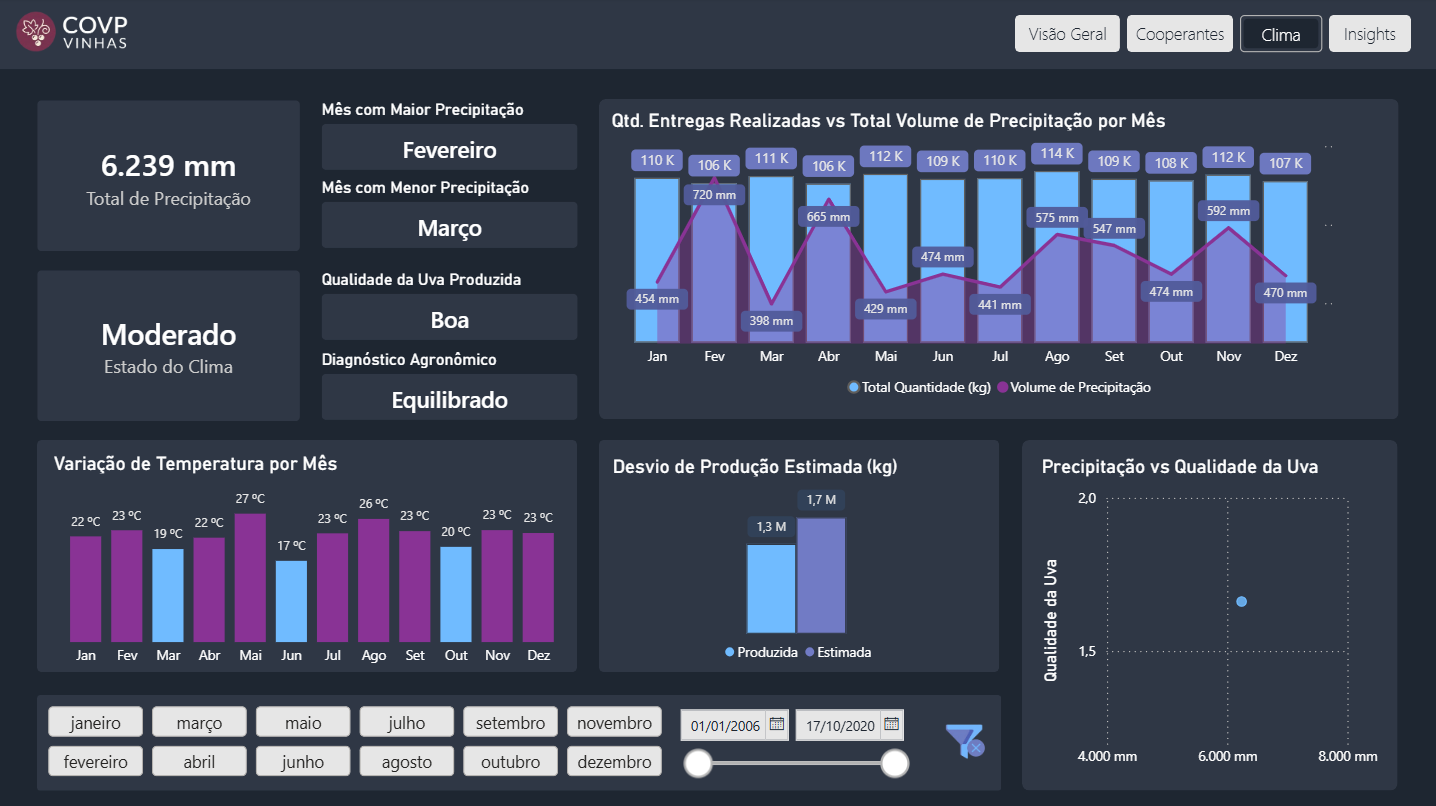

Layout of this report page (visuals, bound fields, positions):
{"tool":"powerbi","page":{"name":"Clima","canvas":[1280,720],"ordinal":2},"visuals":[{"type":"group","id":"g1","title":"Grupo 3","box":[35.6,392.3,478.8,209.6],"z":0},{"type":"group","id":"g2","title":"Grupo 2","box":[909,392.3,333,310.6],"z":1000},{"type":"group","id":"g3","title":"Grupo 1","box":[533.6,90,709.1,284],"z":2000},{"type":"group","id":"g4","title":"Grupo 4","box":[35.6,618.3,855.8,84.6],"z":3000},{"type":"shape","box":[0,0,1280,63],"z":4000},{"type":"image","box":[0,7.8,133.3,45.7],"z":5000},{"type":"actionButton","box":[1181.1,15.1,72.7,32.8],"z":6000},{"type":"actionButton","box":[1102.2,15.1,72.7,32.8],"z":7000},{"type":"actionButton","box":[1002,15.1,94,32.8],"z":8000},{"type":"actionButton","box":[902.7,15.1,93.1,32.8],"z":9000},{"type":"cardVisual","fields":{"Data":["Medida.Total Precipitação"]},"box":[19,73.5,267.5,168],"z":10000},{"type":"shape","box":[533.6,90,709.1,284],"z":11000,"group":"g3"},{"type":"shape","box":[533.7,392.3,354.8,205.8],"z":11000,"group":"g5"},{"type":"cardVisual","title":"Diagnóstico Agronômico","fields":{"Data":["Medida.Diagnóstico Agronómico"]},"box":[283,312,237,67],"z":12000},{"type":"cardVisual","fields":{"Data":["Medida.Estado do Clima"]},"box":[19,224,267.5,168],"z":13000},{"type":"shape","box":[35.6,392.3,478.8,205.8],"z":13000,"group":"g1"},{"type":"shape","box":[909,392.3,333.1,310.7],"z":13500,"group":"g2"},{"type":"cardVisual","title":"Qualidade da Uva Produzida","fields":{"Data":["Medida.Classificacao Qualidade"]},"box":[283,241.3,237,67],"z":14000},{"type":"cardVisual","title":"Mês com Maior Precipitação","fields":{"Data":["Min(Calendario.Mês Completo)"]},"box":[283,90.2,237,67.7],"z":15000},{"type":"shape","box":[35.6,618.3,855,85],"z":15500,"group":"g4"},{"type":"advancedSlicerVisual","fields":{"Values":["Calendario.Date.Variação.Hierarquia de Datas.Mês"]},"box":[35.6,618.3,569,82],"z":15625,"group":"g4"},{"type":"slicer","fields":{"Values":["Calendario.Date"]},"box":[593.6,621.3,224,77],"z":15750,"group":"g4"},{"type":"lineStackedColumnComboChart","title":"Qtd. Entregas Realizadas vs Total Volume de Precipitação por Mês","fields":{"Y":["Medida.Total Quantidade (kg)"],"Y2":["_Medida.Total Precipitação"],"Category":["Calendario.Mês Abreviado"]},"box":[540.2,99.1,702.2,265],"z":16000,"group":"g3"},{"type":"cardVisual","title":"Mês com Menor Precipitação","fields":{"Data":["Min(Calendario.Mês Completo)"]},"box":[283,160,237,67],"z":16000},{"type":"scatterChart","title":"Precipitação vs Qualidade da Uva","fields":{"X":["Medida.Total Precipitação"],"Y":["Avg(TodosCooperantes.Qualidade)"]},"box":[921.8,405.5,308.2,285.3],"z":16000,"group":"g2"},{"type":"image","box":[840.8,642.1,36.2,35],"z":16000,"group":"g4"},{"type":"clusteredColumnChart","title":"Desvio de Produção Estimada (kg)","fields":{"Y":["_Medida.Total Quantidade (kg)","_Medida.Total Quantidade Prevista (kg)"]},"box":[540.5,405.5,342.1,192.6],"z":17000,"group":"g5"},{"type":"actionButton","box":[834.9,634,48,50],"z":17000,"group":"g4"},{"type":"group","id":"g5","title":"Grupo 5","box":[533.7,392.3,354.8,205.8],"z":17001},{"type":"lineStackedColumnComboChart","title":"Variação de Temperatura por Mês","fields":{"Y":["Avg(Clima.Temperatura)"],"Category":["Calendario.Mês Abreviado"]},"box":[45.5,403.4,468.6,198.5],"z":18000,"group":"g1"}]}

Visuals, with their boxes in screenshot pixels (x1, y1, x2, y2), scaled from the page's 1280x720 canvas onto the 1436x806 screenshot:
"Grupo 3" group: BBox(40, 439, 577, 674)
"Grupo 2" group: BBox(1020, 439, 1393, 787)
"Grupo 1" group: BBox(599, 101, 1394, 419)
"Grupo 4" group: BBox(40, 692, 1000, 787)
shape: BBox(0, 0, 1435, 71)
image: BBox(0, 9, 150, 60)
actionButton: BBox(1325, 17, 1407, 54)
actionButton: BBox(1237, 17, 1318, 54)
actionButton: BBox(1124, 17, 1230, 54)
actionButton: BBox(1013, 17, 1117, 54)
cardVisual - Medida.Total Precipitação: BBox(21, 82, 321, 270)
shape: BBox(599, 101, 1394, 419)
shape: BBox(599, 439, 997, 670)
"Diagnóstico Agronômico" cardVisual: BBox(317, 349, 583, 424)
cardVisual - Medida.Estado do Clima: BBox(21, 251, 321, 439)
shape: BBox(40, 439, 577, 670)
shape: BBox(1020, 439, 1393, 787)
"Qualidade da Uva Produzida" cardVisual: BBox(317, 270, 583, 345)
"Mês com Maior Precipitação" cardVisual: BBox(317, 101, 583, 177)
shape: BBox(40, 692, 999, 787)
advancedSlicerVisual - Calendario.Date.Variação.Hierarquia de Datas.Mês: BBox(40, 692, 678, 784)
slicer - Calendario.Date: BBox(666, 696, 917, 782)
"Qtd. Entregas Realizadas vs Total Volume de Precipitação por Mês" lineStackedColumnComboChart: BBox(606, 111, 1394, 408)
"Mês com Menor Precipitação" cardVisual: BBox(317, 179, 583, 254)
"Precipitação vs Qualidade da Uva" scatterChart: BBox(1034, 454, 1380, 773)
image: BBox(943, 719, 984, 758)
"Desvio de Produção Estimada (kg)" clusteredColumnChart: BBox(606, 454, 990, 670)
actionButton: BBox(937, 710, 991, 766)
"Grupo 5" group: BBox(599, 439, 997, 670)
"Variação de Temperatura por Mês" lineStackedColumnComboChart: BBox(51, 452, 577, 674)
